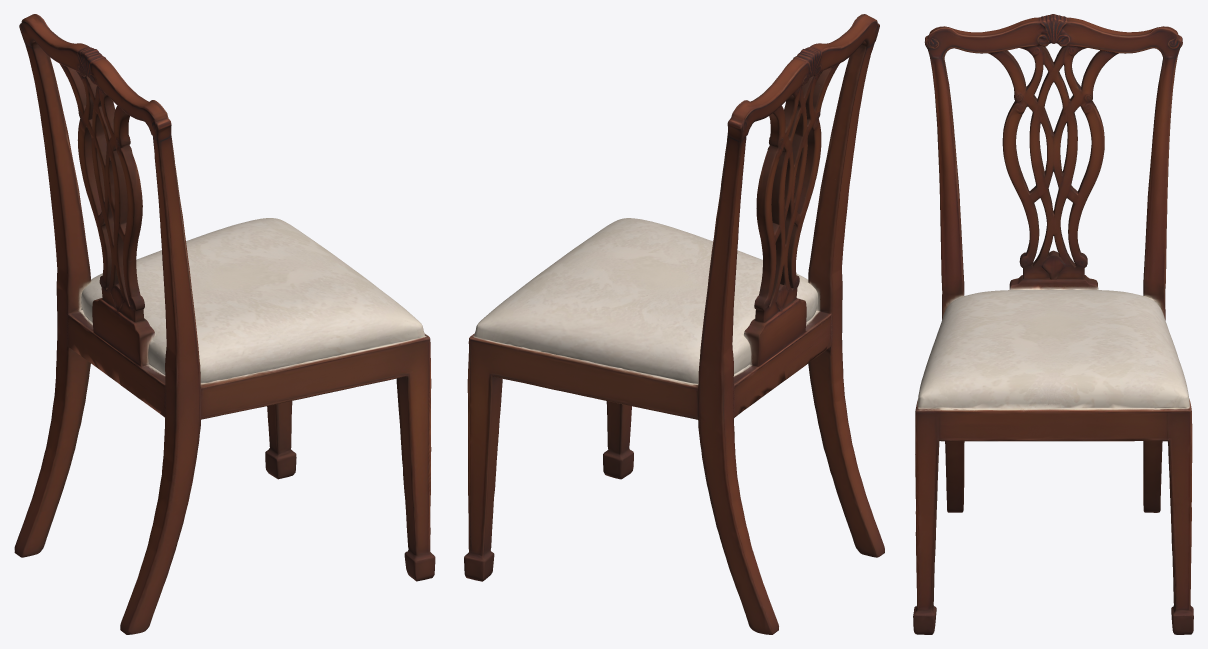
The model's file is chippendale-chair.glb.
The picture shows the model from 3 angles, left to right: view 1: azimuth 30°, elevation 25°; view 2: azimuth 150°, elevation 25°; view 3: azimuth 270°, elevation 25°; orthographic projection. The views are drawn at different scales.
Parts seen in each view (by area): view 1: tripo_node_19fbf537-887a-4ddc-910b-18a955e642ba; view 2: tripo_node_19fbf537-887a-4ddc-910b-18a955e642ba; view 3: tripo_node_19fbf537-887a-4ddc-910b-18a955e642ba.
Part boxes in pixels (box(x1,y1,x2,y2)): tripo_node_19fbf537-887a-4ddc-910b-18a955e642ba: box(14, 14, 435, 634); tripo_node_19fbf537-887a-4ddc-910b-18a955e642ba: box(464, 14, 884, 634); tripo_node_19fbf537-887a-4ddc-910b-18a955e642ba: box(913, 14, 1193, 634).
Bounding box in the file's own units: 0.5377 × 0.95 × 0.4847.
Materials: 1 (1 with a texture image).
